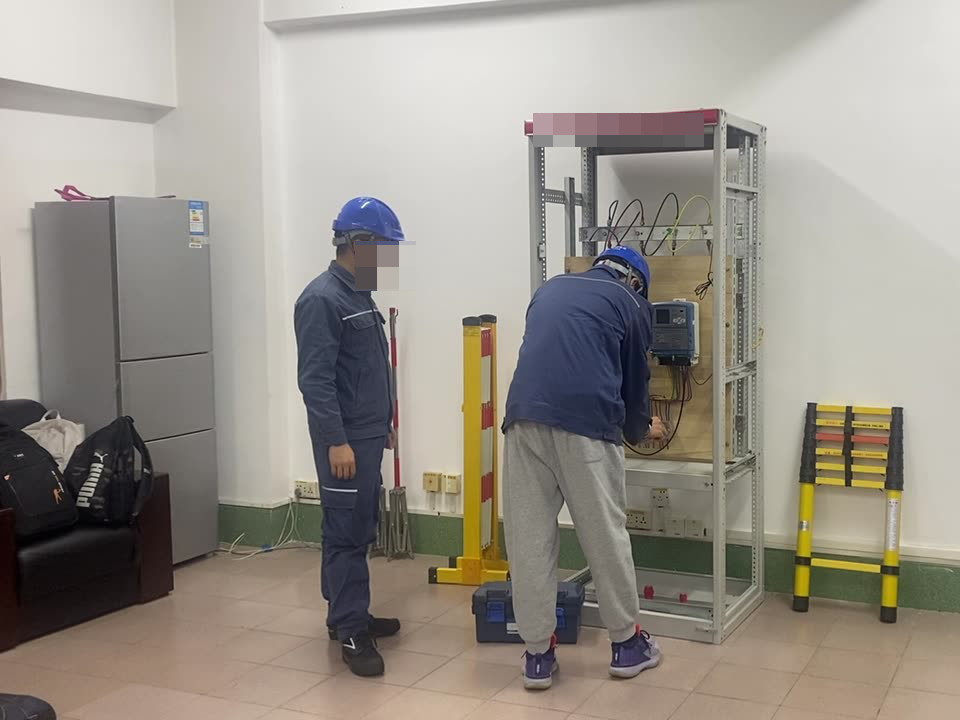downcloth: (504, 422, 642, 656)
downsuit: (311, 445, 387, 632)
halt: (328, 196, 408, 280), (593, 244, 653, 298)
hand: (327, 445, 358, 483), (646, 412, 669, 439)
inear: (350, 228, 375, 271)
person: (496, 242, 665, 692), (292, 193, 413, 677)
upsuit: (494, 271, 652, 445), (291, 267, 399, 442)
